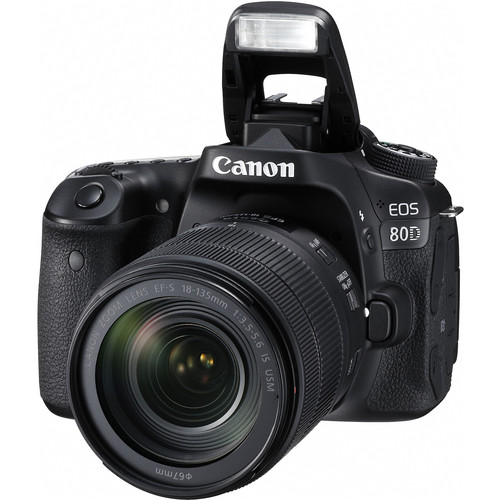kamera: (22, 1, 468, 500)
